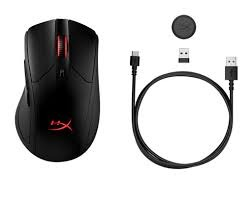mouse: (12, 9, 108, 162)
